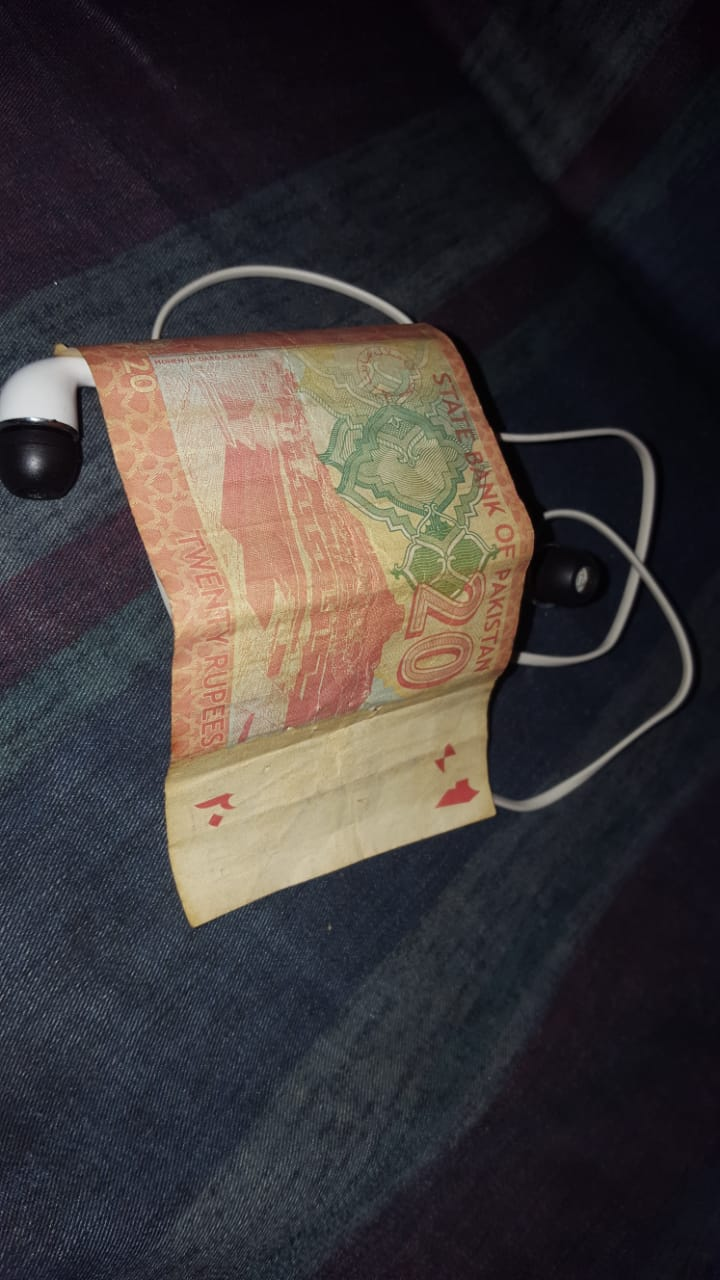20 rupee: (63, 316, 562, 942)
